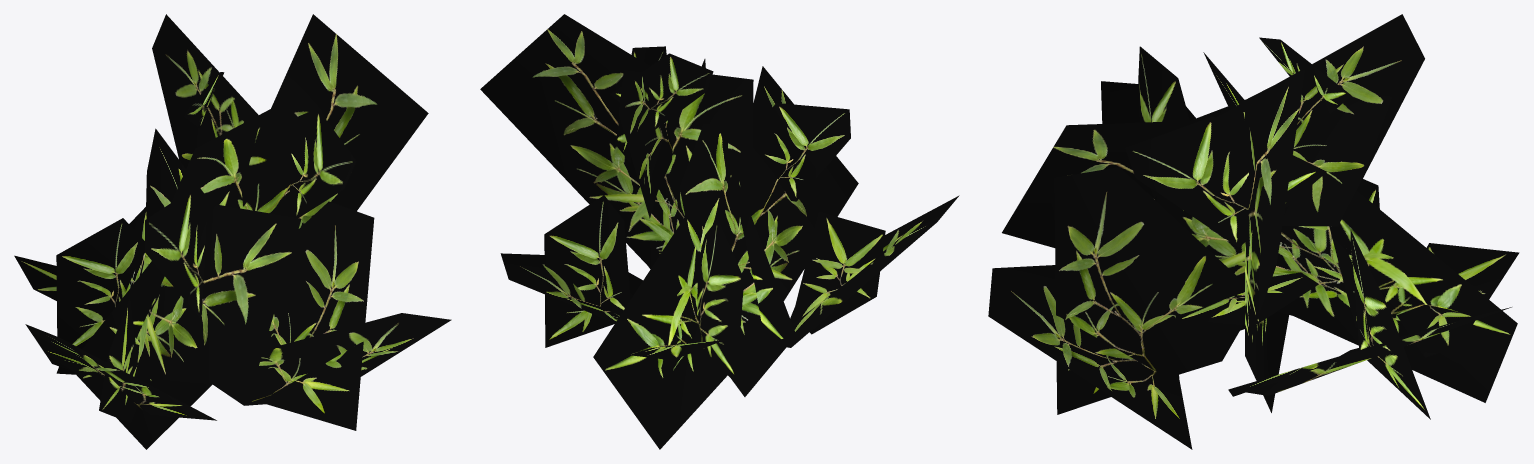
The model's file is m_grass_30_2.fbx.
The picture shows the model from 3 angles, left to right: view 1: azimuth 30°, elevation 25°; view 2: azimuth 150°, elevation 25°; view 3: azimuth 270°, elevation 25°; orthographic projection. The views are drawn at different scales.
Visible parts, largest first — view 1: mesh_grass_30_2_LOD0; view 2: mesh_grass_30_2_LOD0; view 3: mesh_grass_30_2_LOD0.
Part boxes in pixels (left/top/right/bottom): mesh_grass_30_2_LOD0: left=14, top=14, right=451, bottom=449; mesh_grass_30_2_LOD0: left=480, top=14, right=959, bottom=449; mesh_grass_30_2_LOD0: left=988, top=14, right=1519, bottom=449.
Size of the model in its own units: 1.4 by 1.14 by 1.22.
